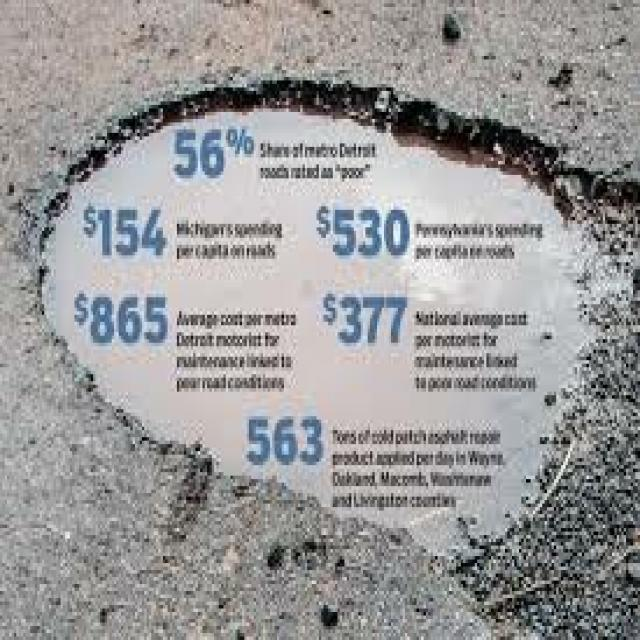Pothole: (21, 45, 640, 619)
